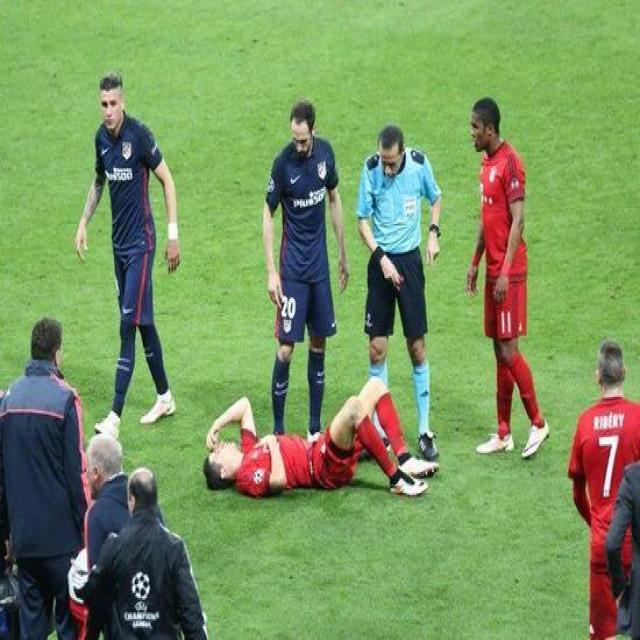fall: (201, 388, 425, 492)
